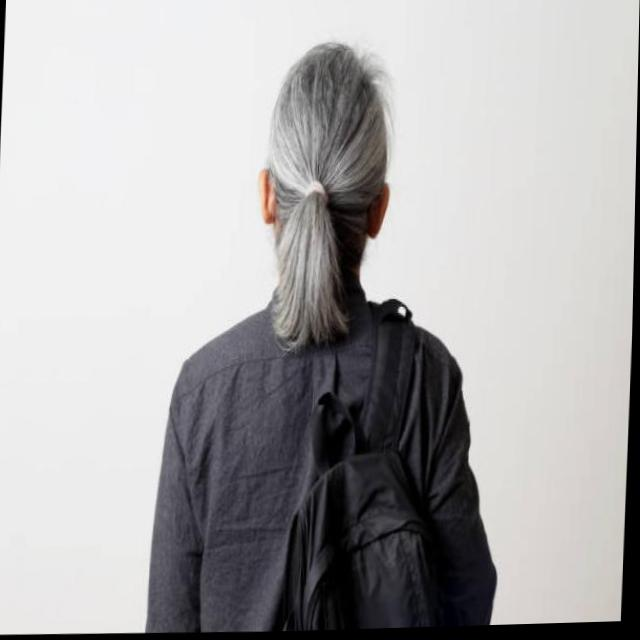no helmet: (224, 43, 428, 314)
